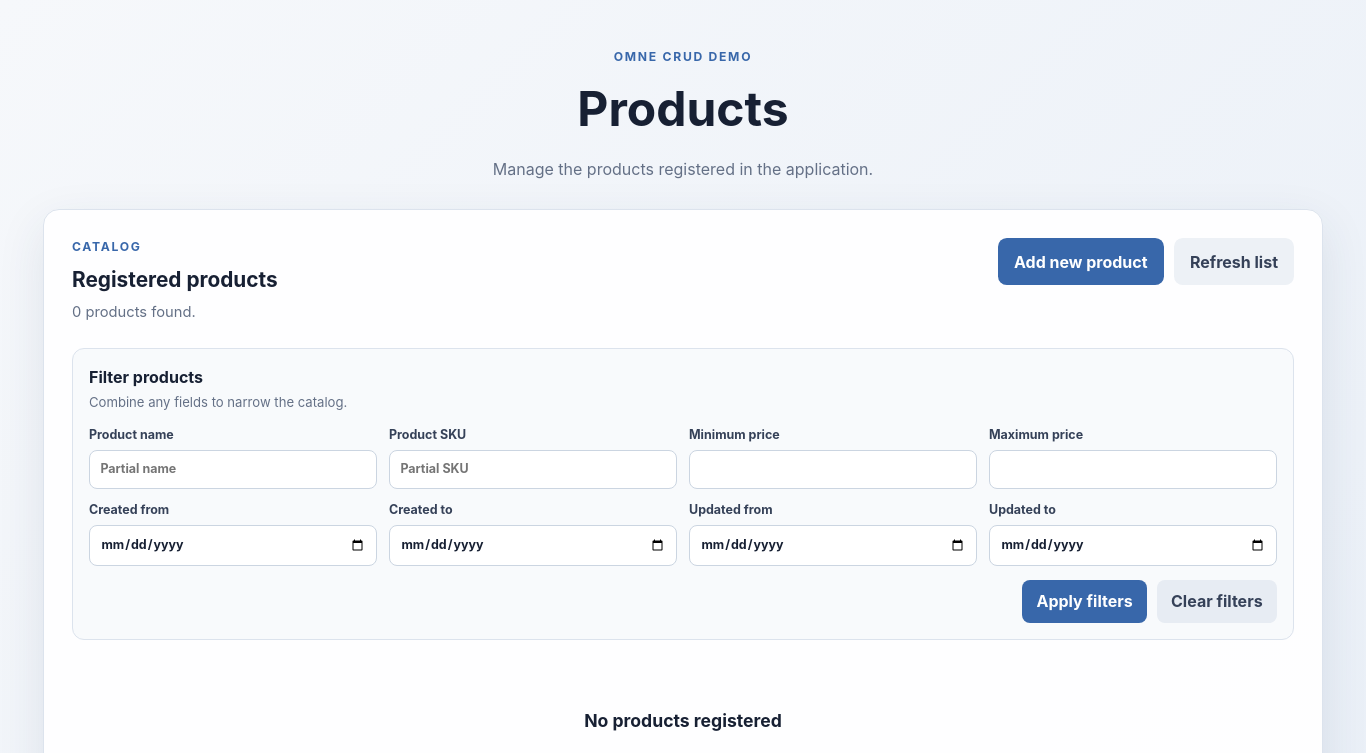
Scenario: App › prevents duplicate submission while creating
Expected: the heading "Registered products" is shown, [72,264,278,295]
Step 1. Click the button "Add new product" → (1081, 262), box [998,238,1164,285]
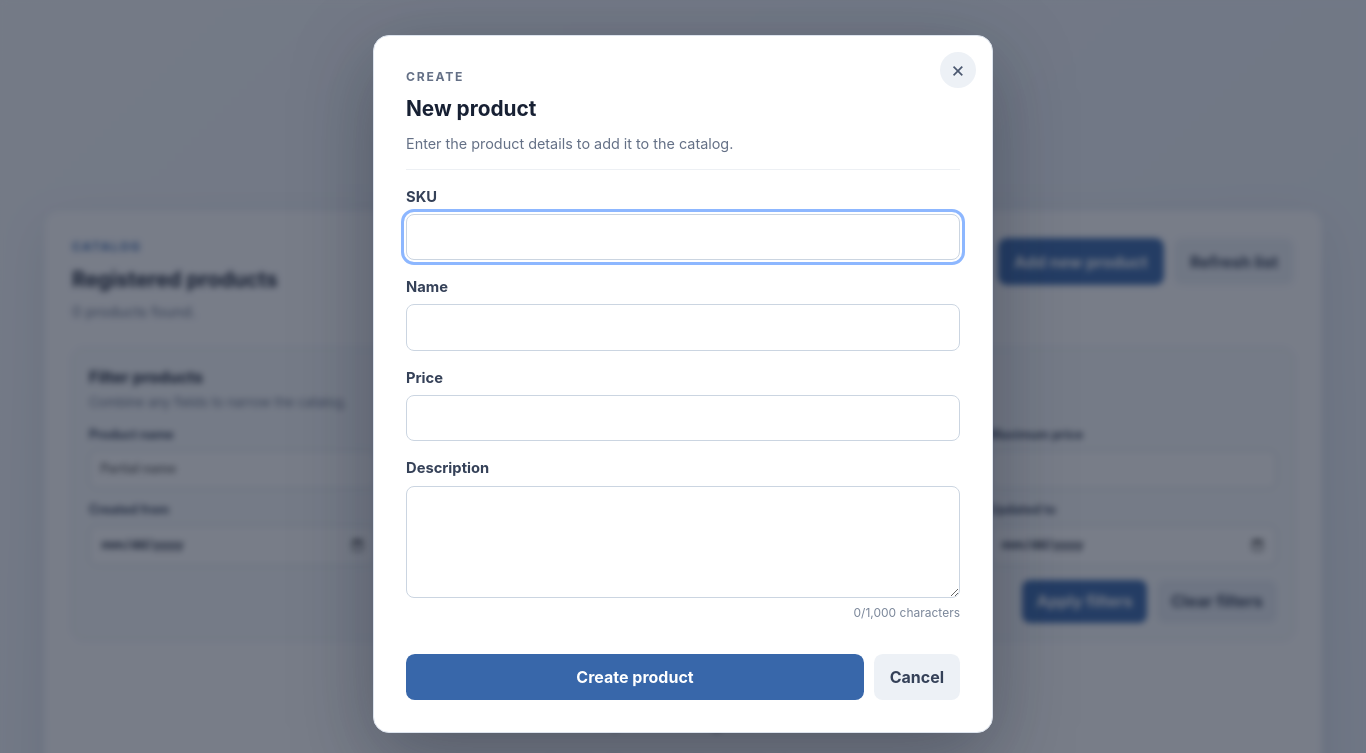
Step 2. Type "sku-100" into the field labelled "SKU" → (683, 237), box [406,214,960,260]
Step 3. Type "Monitor" into the field labelled "Name" → (683, 328), box [406,304,960,351]
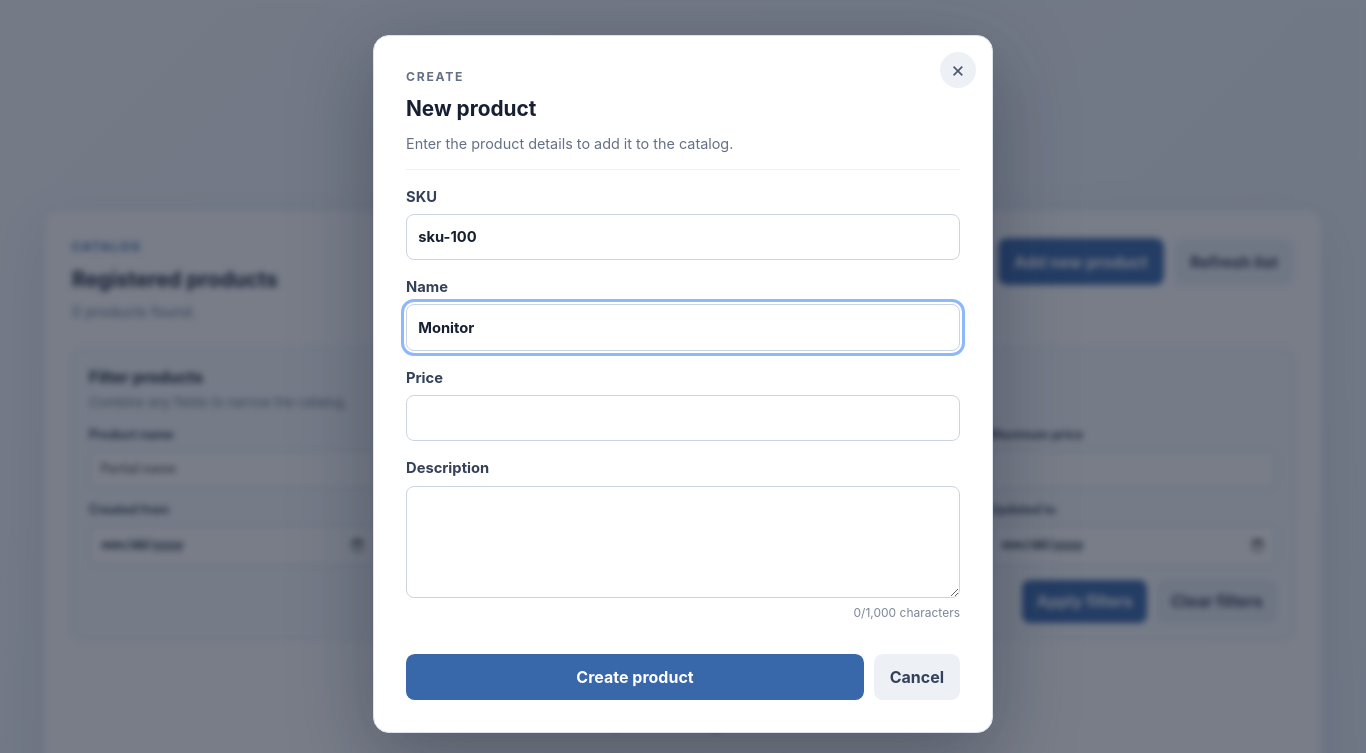
Step 4. Type "1599.90" into the number field labelled "Price" → (683, 418), box [406,395,960,442]
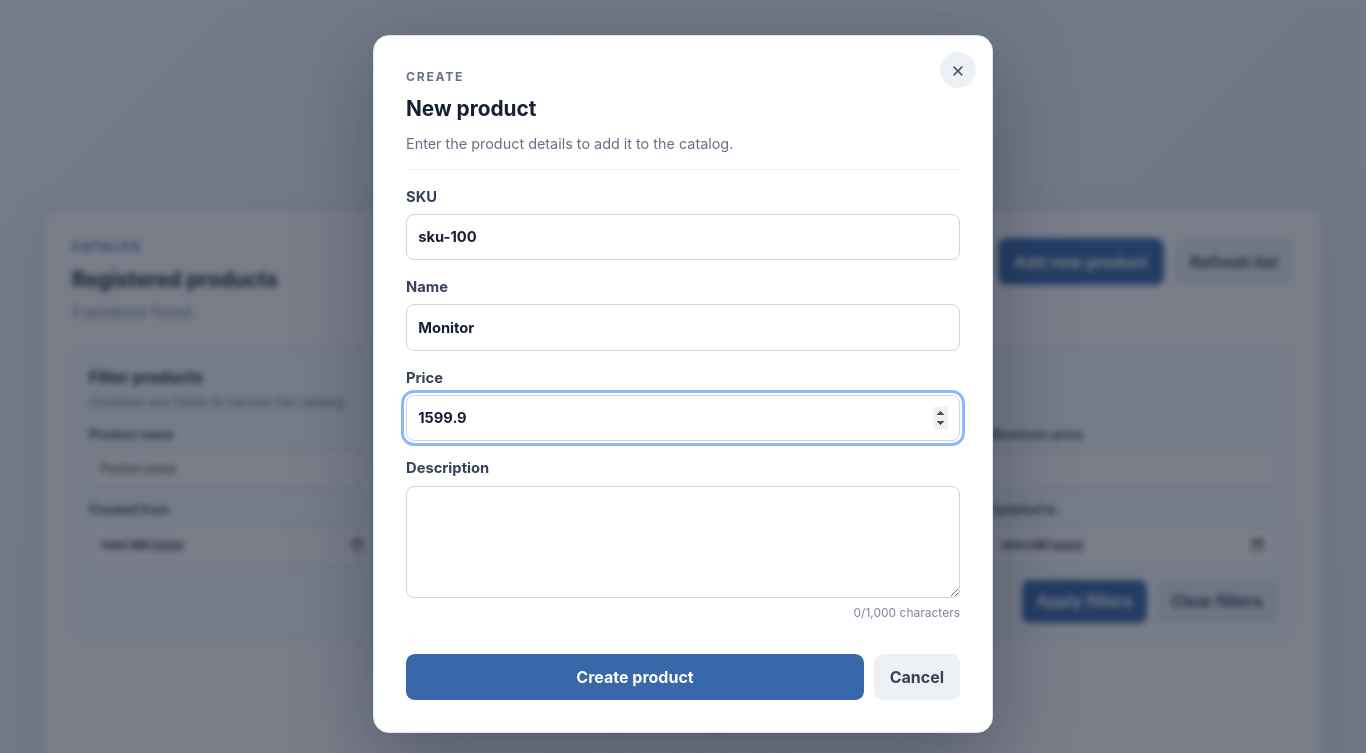
Step 5. Type "Monitor for a workstation" into the text box labelled "Description 0/1,000 characters" → (683, 542), box [406,486,960,598]
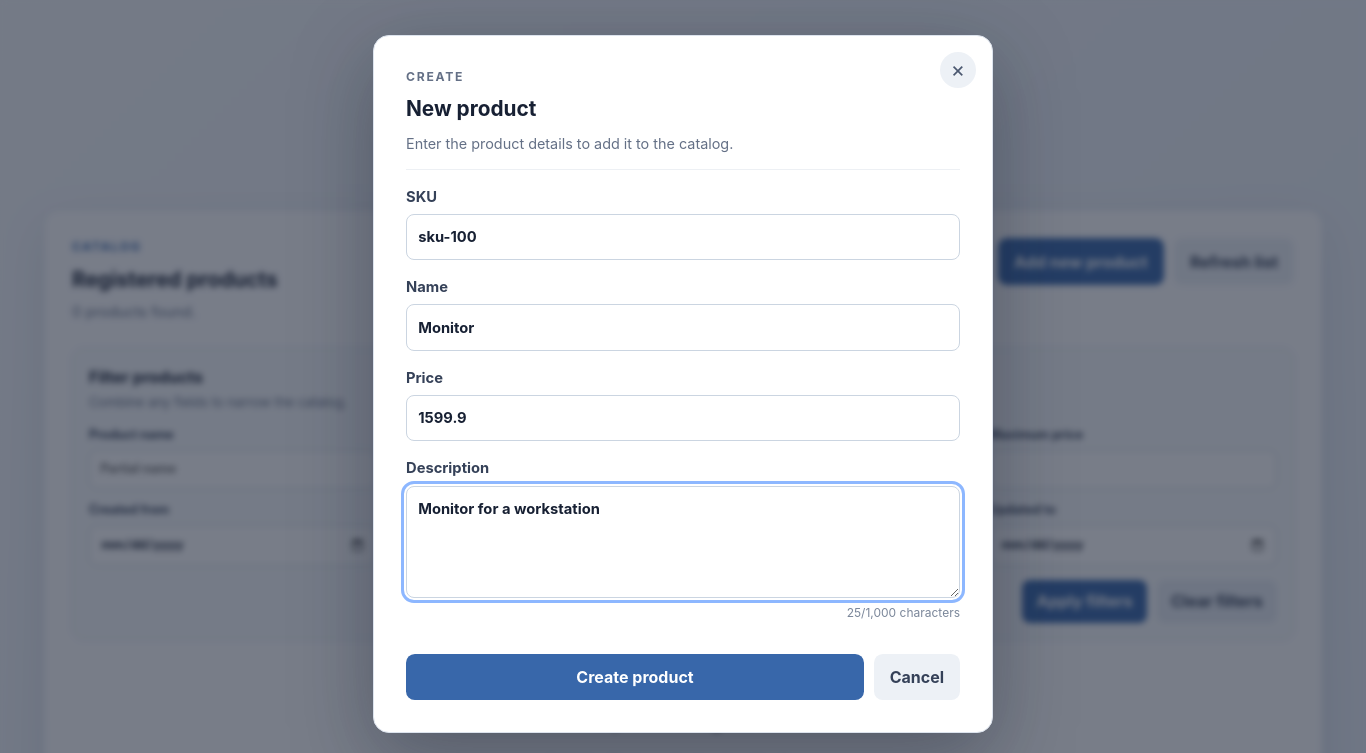
Step 6. Click the button "Create product" → (635, 677), box [406,654,864,700]
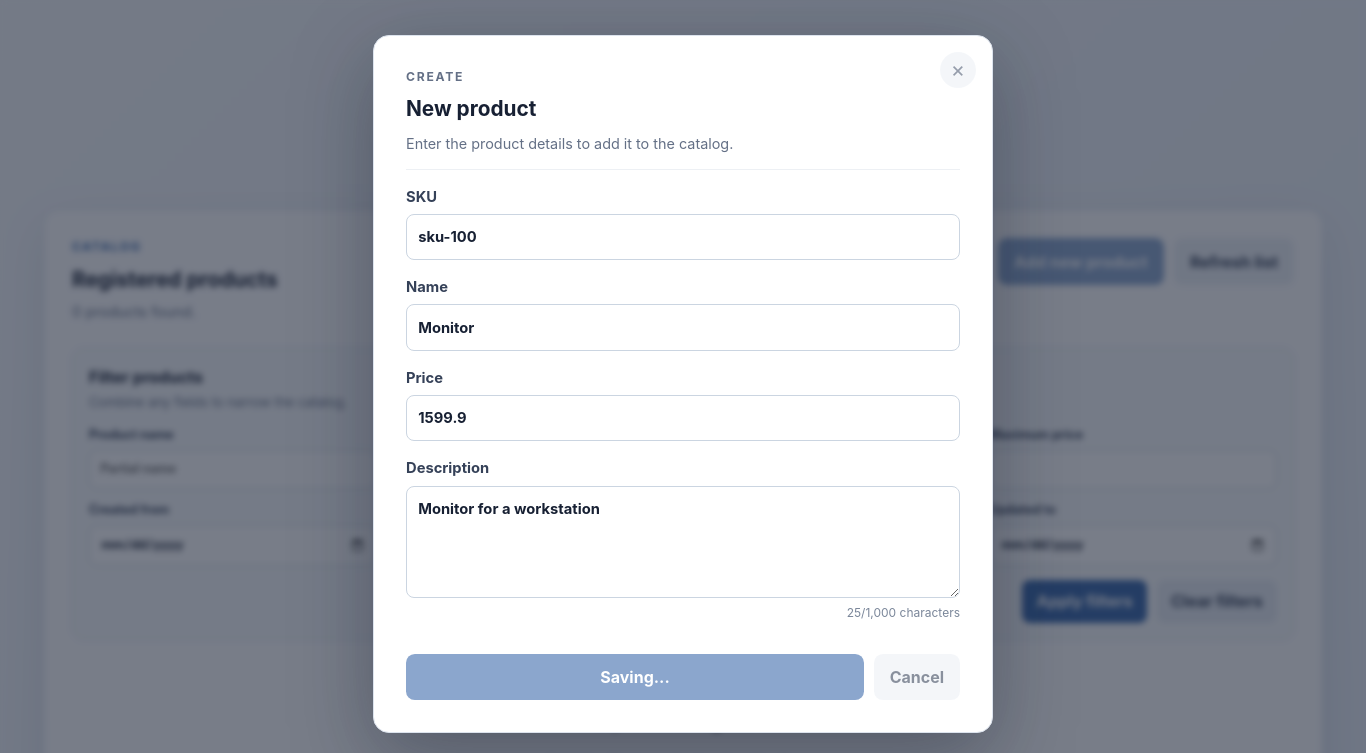
Now the button "Saving..." is disabled
Step 7. Click the button "Saving..." → (635, 677), box [406,654,864,700]
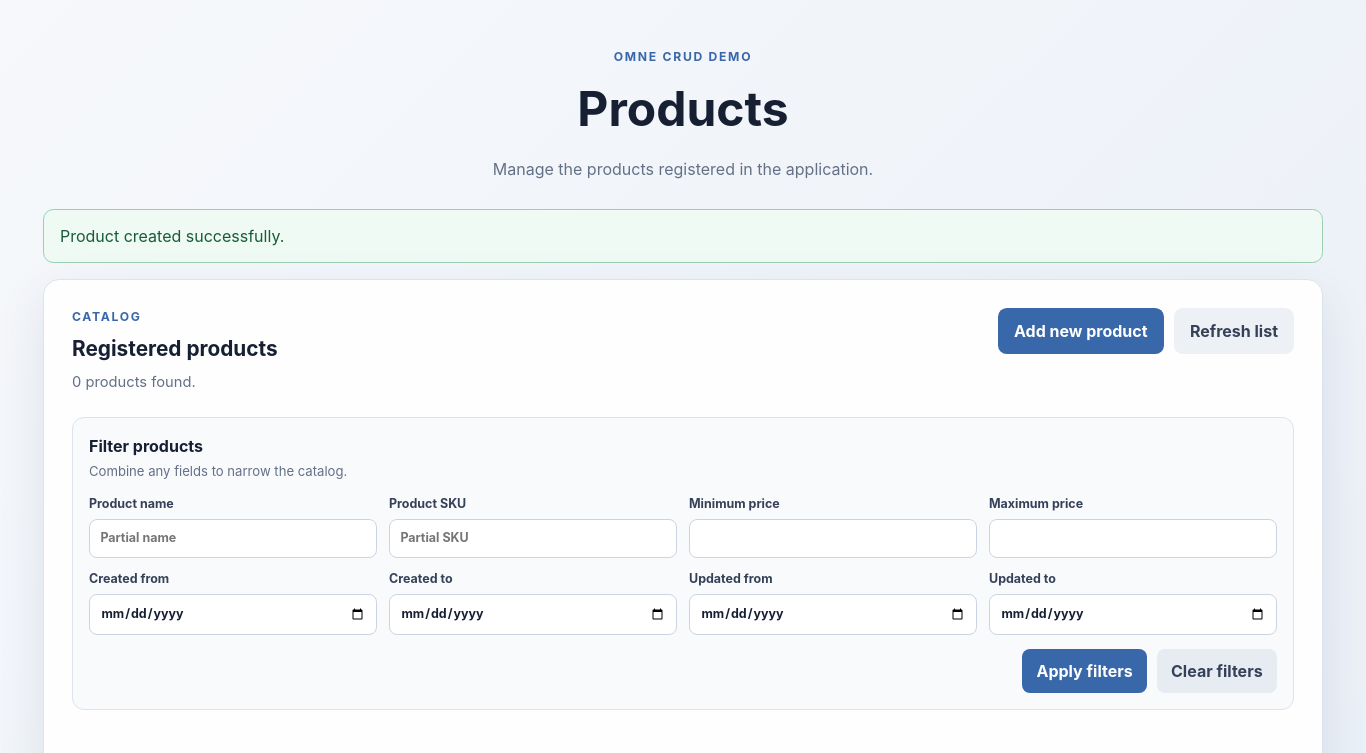
Now the text "Product created successfully." is shown, box [43,209,1323,263]
